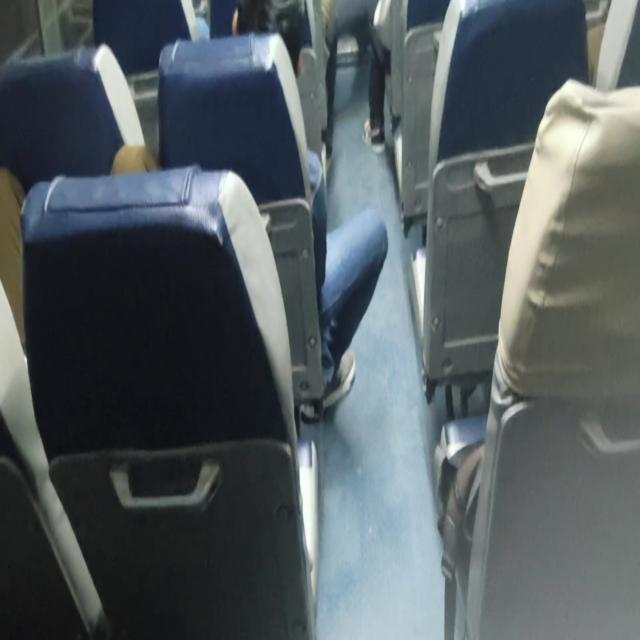person: (225, 0, 312, 103)
